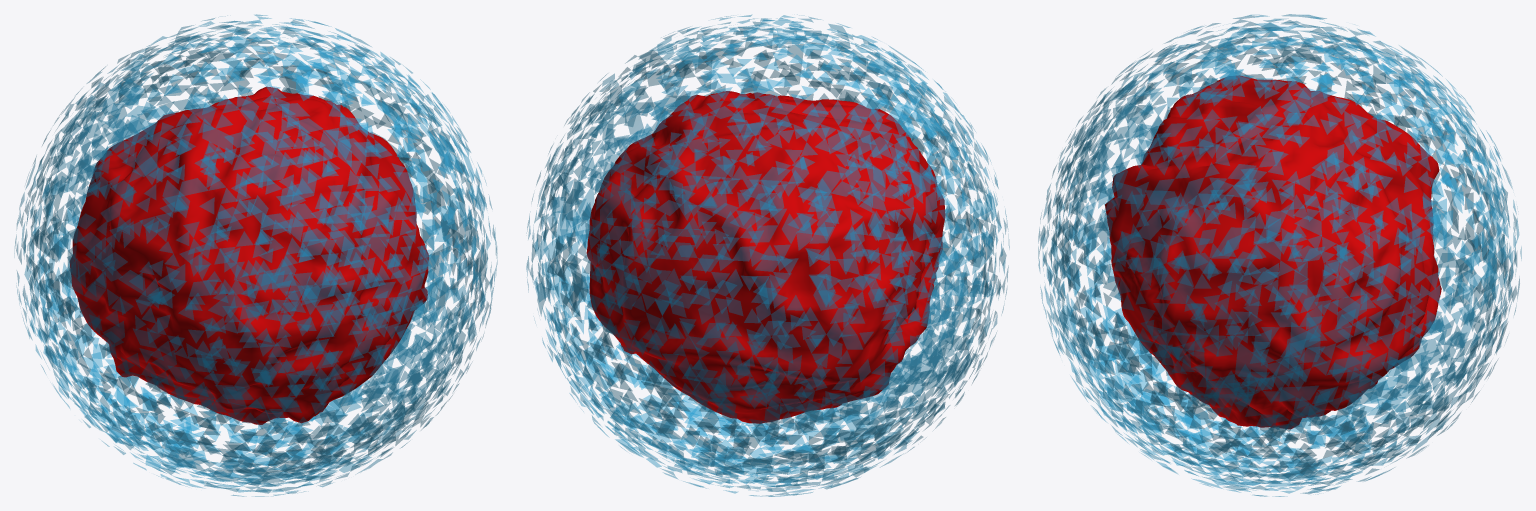
File: PLANETNibiruRigel(d).obj
3 views of the same model, side by side, from view 1: azimuth 30°, elevation 25°; view 2: azimuth 150°, elevation 25°; view 3: azimuth 270°, elevation 25° (orthographic).
Parts seen in each view (by area): view 1: Cube, Icosphere.002_Icosphere.004, Icosphere.003_Icosphere.005; view 2: Cube, Icosphere.002_Icosphere.004, Icosphere.003_Icosphere.005; view 3: Cube, Icosphere.002_Icosphere.004, Icosphere.003_Icosphere.005.
Part boxes in pixels (x1=…): Cube: x1=70, y1=86, x2=428, y2=424; Icosphere.002_Icosphere.004: x1=14, y1=14, x2=497, y2=496; Icosphere.003_Icosphere.005: x1=24, y1=24, x2=487, y2=486; Cube: x1=586, y1=91, x2=945, y2=423; Icosphere.002_Icosphere.004: x1=526, y1=15, x2=1009, y2=496; Icosphere.003_Icosphere.005: x1=535, y1=24, x2=999, y2=486; Cube: x1=1105, y1=75, x2=1441, y2=429; Icosphere.002_Icosphere.004: x1=1038, y1=14, x2=1521, y2=496; Icosphere.003_Icosphere.005: x1=1048, y1=22, x2=1510, y2=486.
Bounding box in the file's own units: 2.71 × 2.72 × 2.71.
